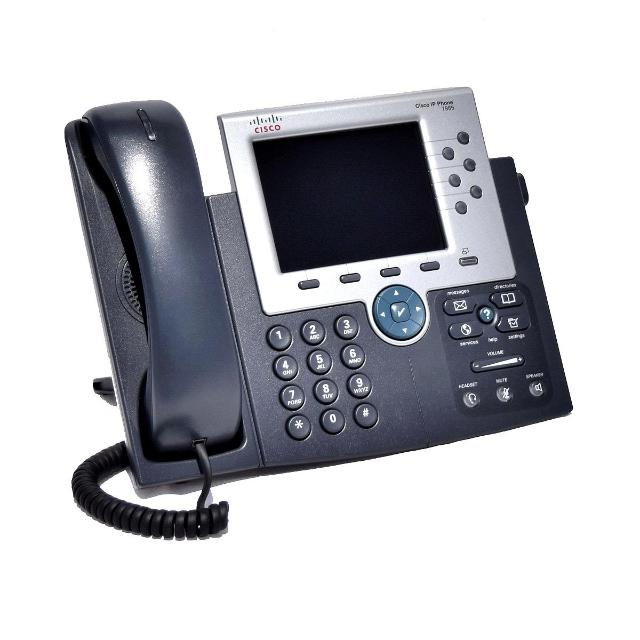Telephone-Set: (59, 74, 584, 488)
